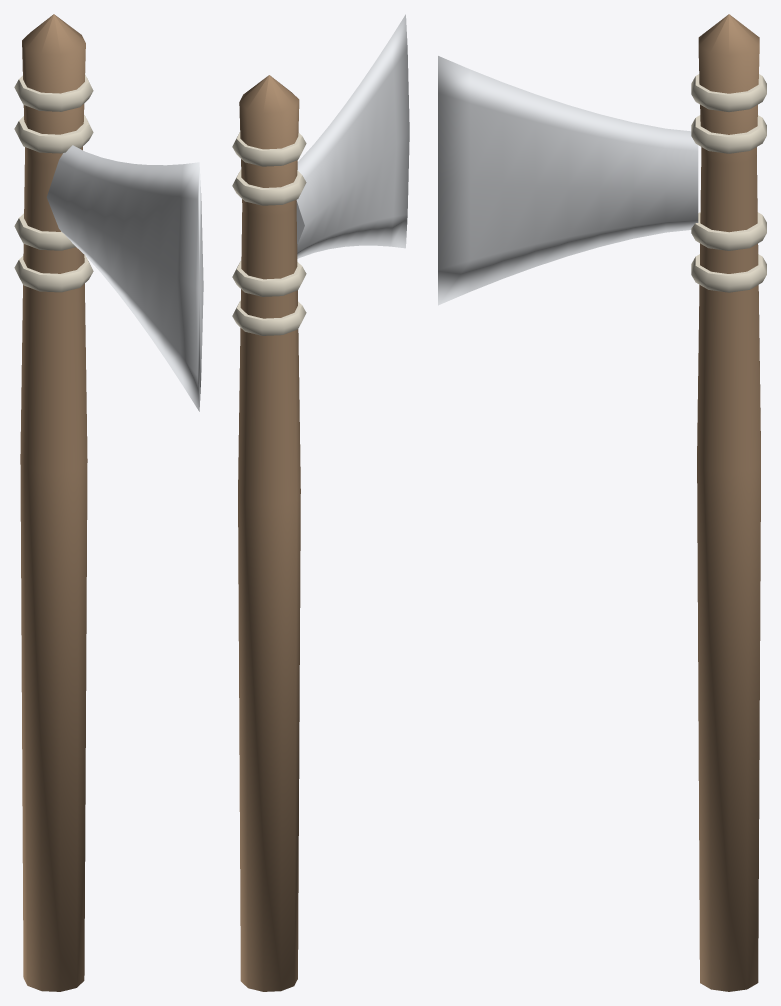
Rendered from axe.glb.
3 renders of one model, left to right at view 1: azimuth 30°, elevation 25°; view 2: azimuth 150°, elevation 25°; view 3: azimuth 270°, elevation 25°, orthographic. The views are drawn at different scales.
Visible parts, largest first — view 1: W-axe; view 2: W-axe; view 3: W-axe.
Boxes of the visible parts, box(x1,y1,x2,y2) form: W-axe: box(14, 14, 203, 991); W-axe: box(232, 14, 409, 991); W-axe: box(438, 14, 766, 991).
Size of the model in its own units: 0.052 by 0.7 by 0.2147.
